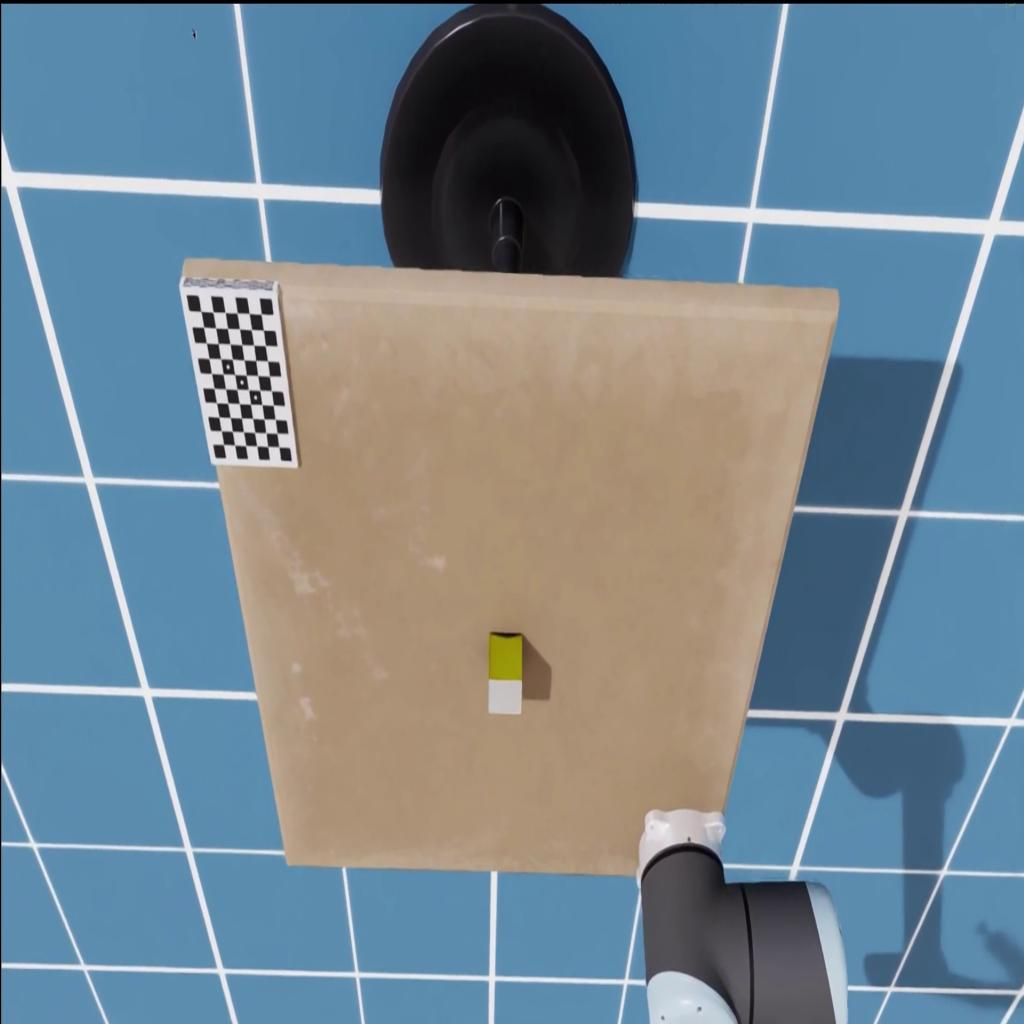Cube: (487, 632, 523, 716)
QR: (178, 262, 300, 470)
Robot: (637, 807, 848, 1024)
Table: (180, 255, 840, 880)
